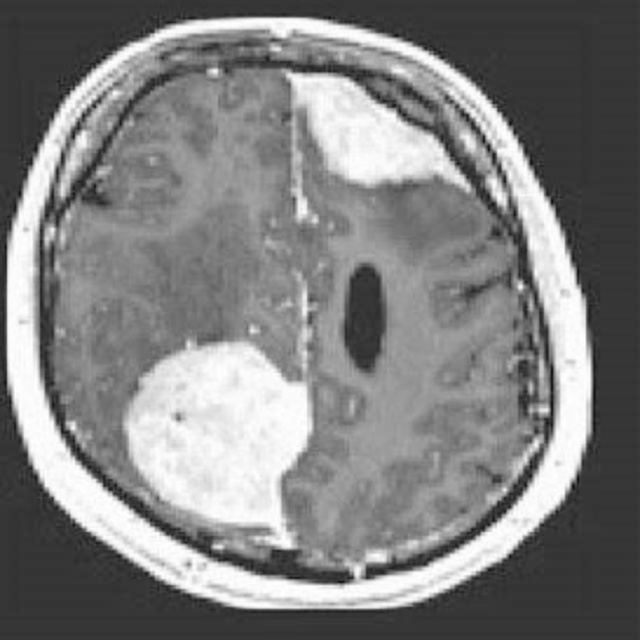meningioma tumor: (91, 326, 338, 542), (279, 45, 488, 220)
